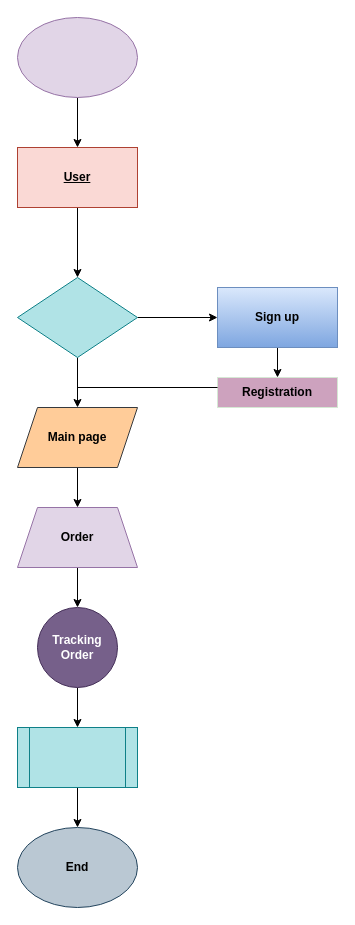
The diagram is 355 pixels wide and 925 high, and some of its shapes have lost their labels. The shapes that lost their labels are listed below. From the top down, each one's box as (x1, y1, x2, y2) in pixels, then its label:
(16, 16, 138, 98): Start
(16, 276, 138, 358): Login
(16, 726, 138, 788): Payment
